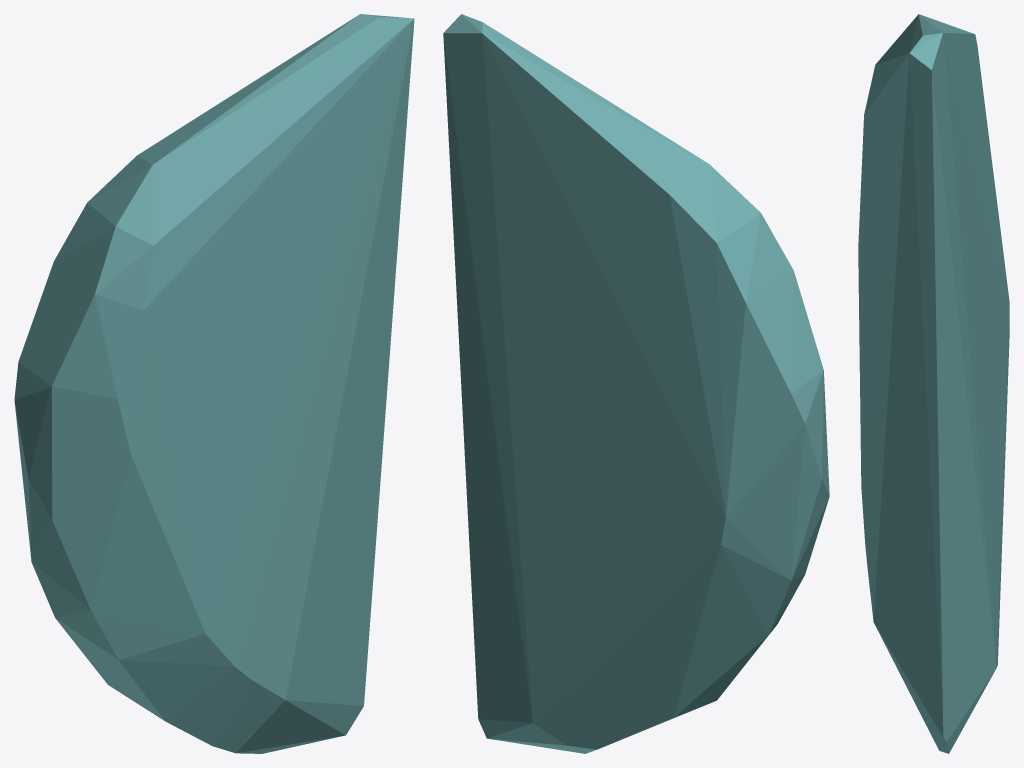
Rendered from food_produce_banana_e01.glb.
The picture shows the model from 3 angles, left to right: view 1: azimuth 30°, elevation 25°; view 2: azimuth 150°, elevation 25°; view 3: azimuth 270°, elevation 25°; orthographic projection. The views are drawn at different scales.
Visible parts, largest first — view 1: geometry_0; view 2: geometry_0; view 3: geometry_0.
Part boxes in pixels (bbox=[...]): geometry_0: bbox=[14, 14, 414, 753]; geometry_0: bbox=[443, 14, 829, 753]; geometry_0: bbox=[858, 14, 1009, 753].
Bounding box in the file's own units: 0.2655 × 0.4738 × 0.0894.
